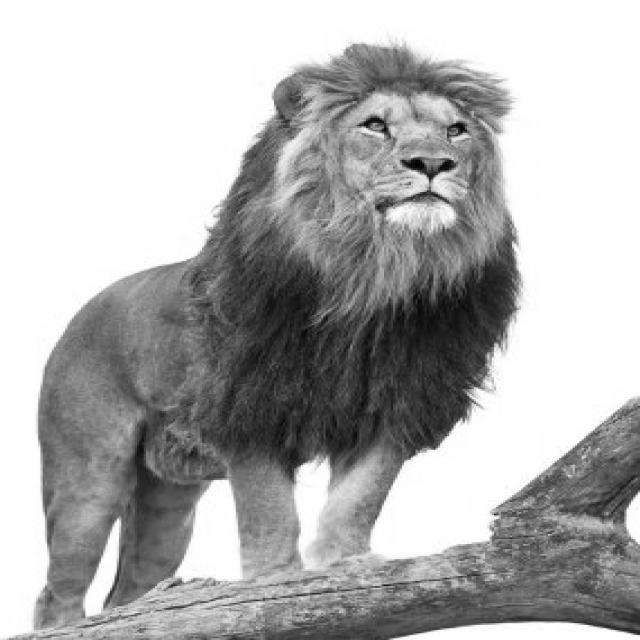Animal: (35, 45, 515, 627)
